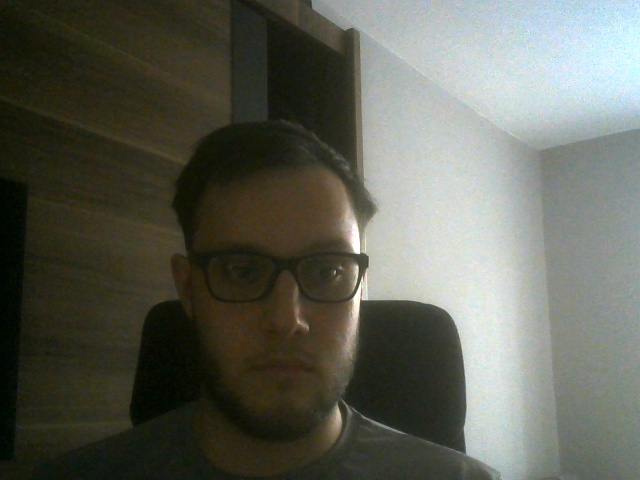neutral: (171, 121, 369, 437)
